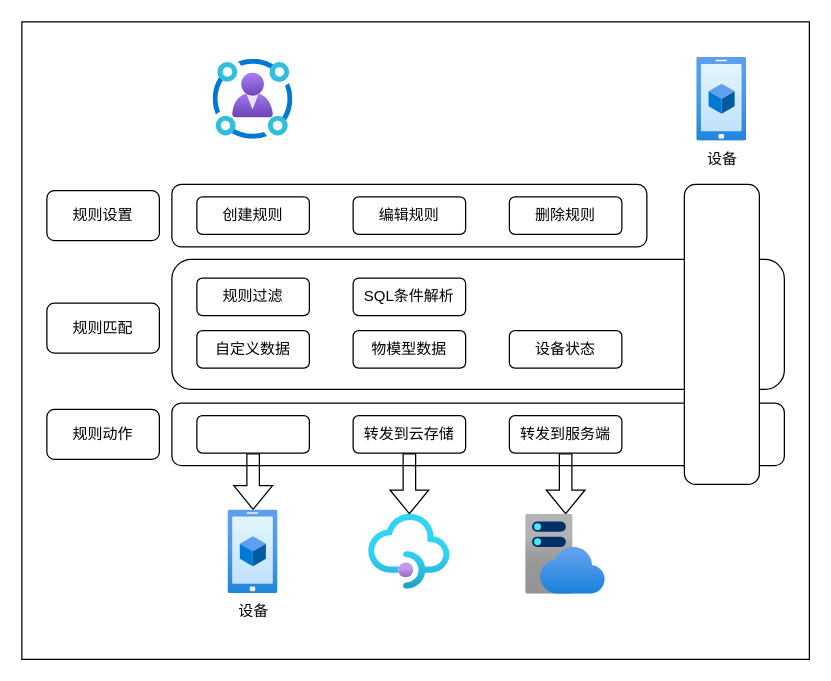
This 831x681 diagram has some shape labels left out. Here are the shapes that lost their labels. From the top down, the box of each, then its label:
(212, 59, 292, 139): 开发者租户
(683, 183, 759, 484): 设备上行消息
(196, 414, 309, 453): 转发到设备
(368, 514, 449, 589): 云存
(525, 514, 605, 594): 第三方服务
